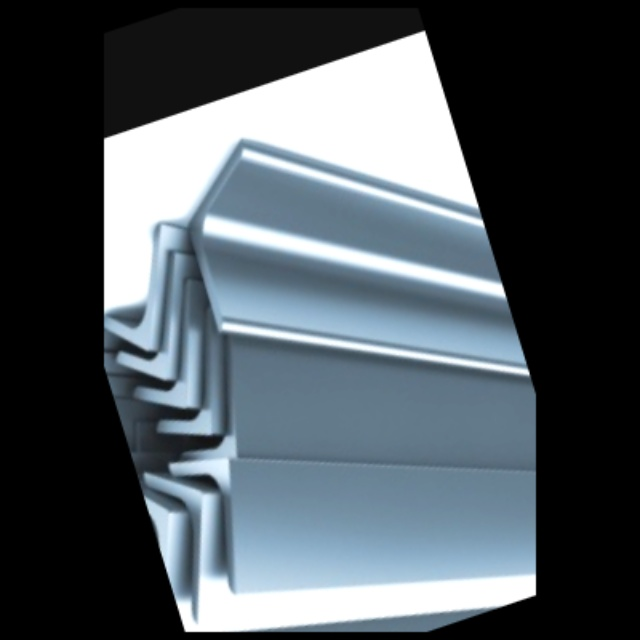Angle: (174, 149, 285, 322), (148, 466, 230, 619), (171, 452, 257, 592), (117, 289, 217, 408), (137, 319, 237, 436), (104, 261, 198, 372), (165, 344, 254, 458), (104, 233, 185, 347)
